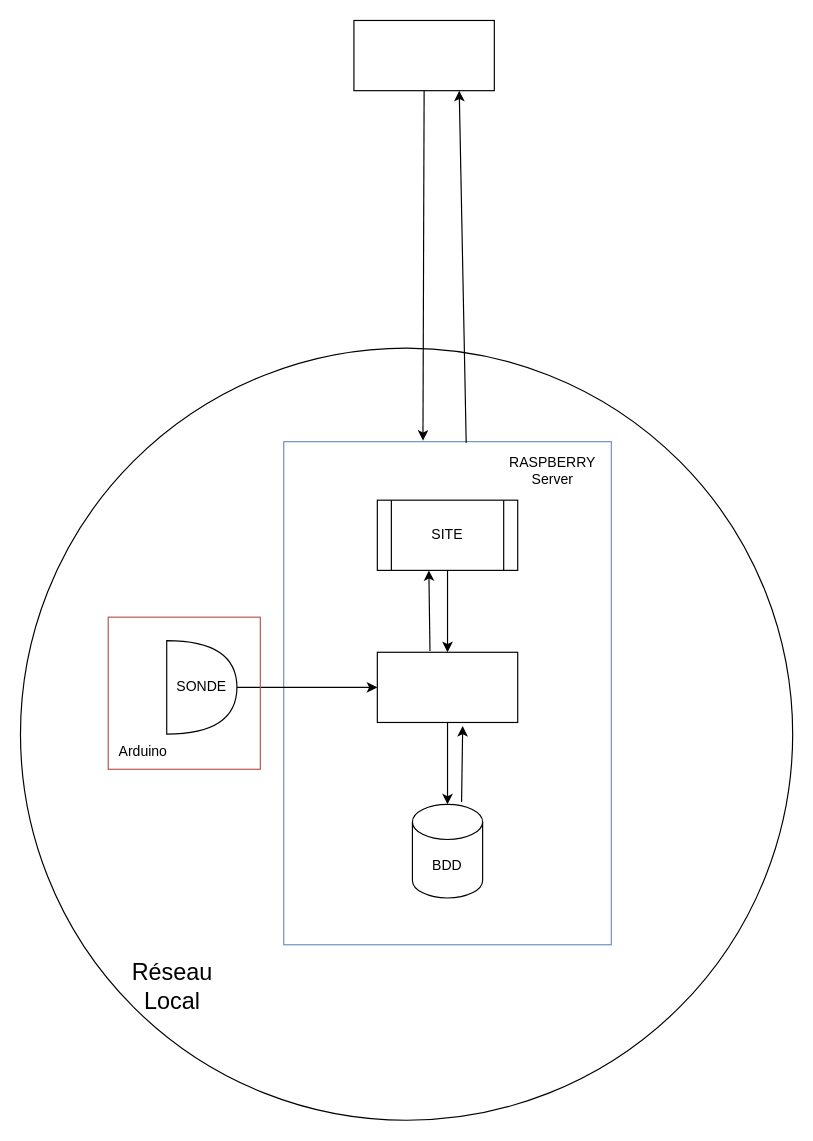
Some shapes in this 813 by 1141 pixel diagram are drawn without their labels. The centre of each missing label's shape, as x and y in pixels:
"API" goes at pixel 447 686.
"Utilisateur (navigateur web)" goes at pixel 423 55.
